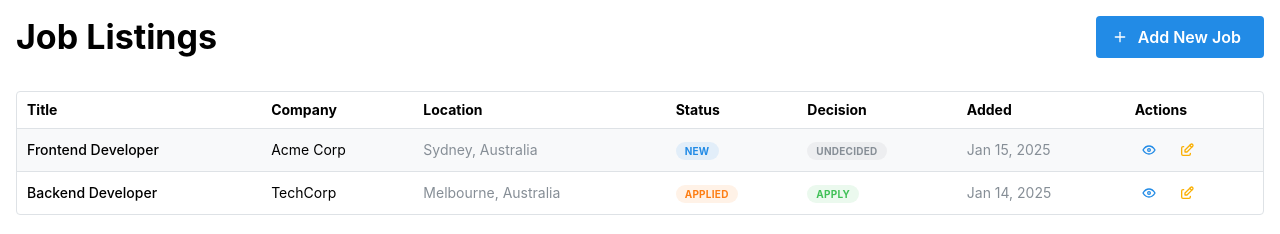
Test: Jobs component › allows inline editing of decision
The width and height of the screenshot is (1280, 234).
# Click on the decision badge to start editing
Step 1. Click the text "Undecided" → (847, 151), box [816,143,878,159]
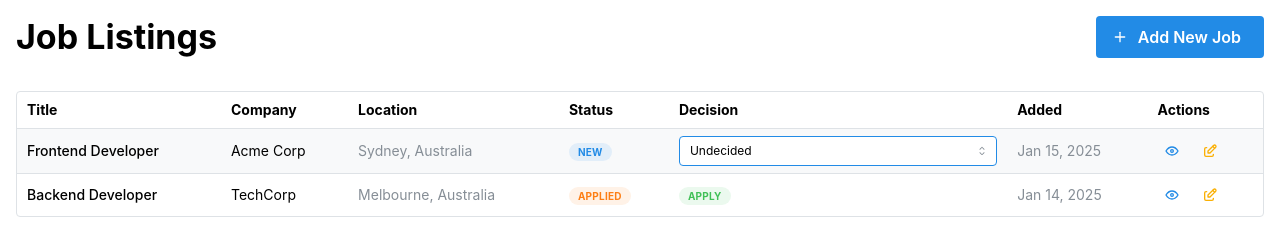
Result: the field showing "Undecided" is shown at [679,136,997,166]
